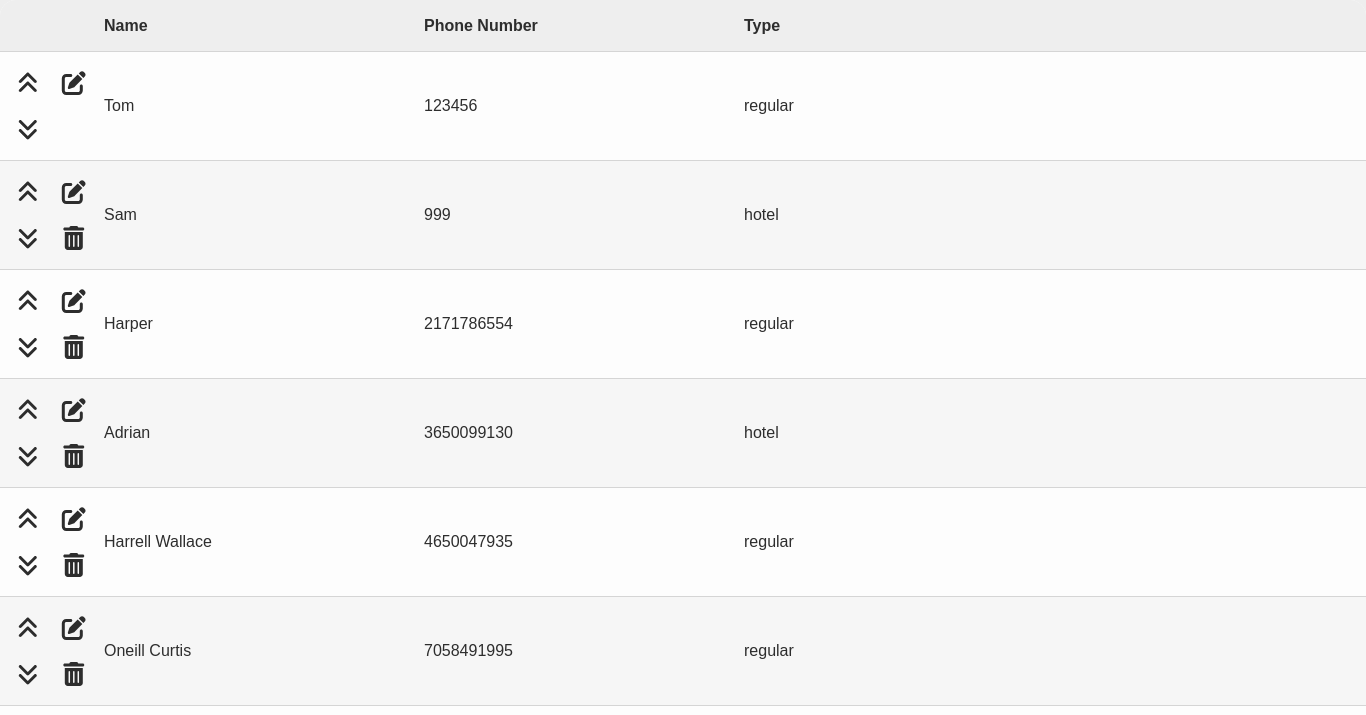
Test case: Generic Table component › Table with rows that can be edited › should swap rows without affecting deletable status
The width and height of the screenshot is (1366, 715).
Click the button with test id "button-move-row-up-1" at (28, 192), box x1=5 y1=169 x2=51 y2=215
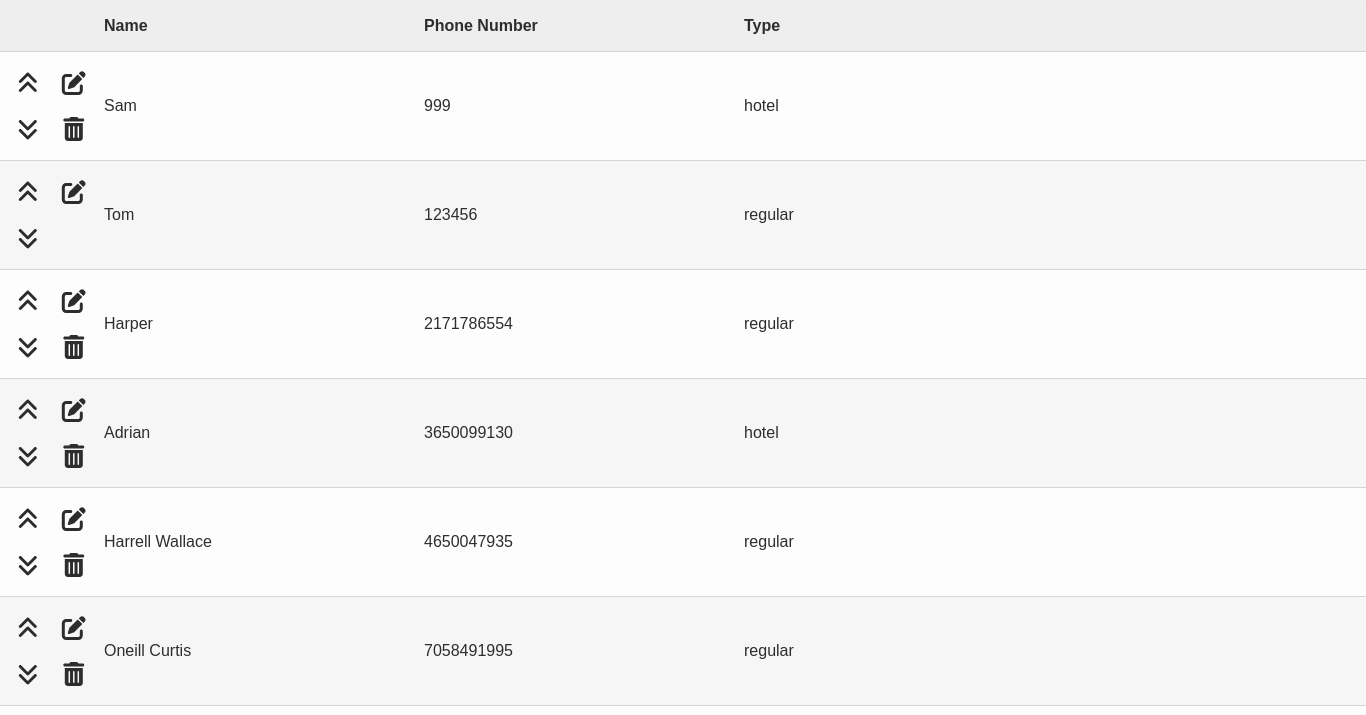
Now the button with test id "button-delete-row-1" is gone
Now the button with test id "button-delete-row-0" is shown, box x1=51 y1=106 x2=97 y2=152
